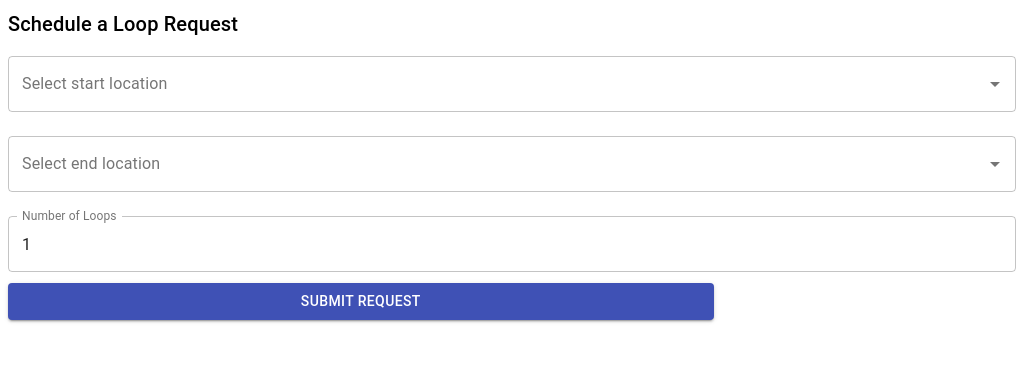
Test: Loop Request Form › should render error messages when invalid form is submitted
The image size is (1024, 386).
Click the button "Submit Request".
click(361, 301)  # box left=8, top=283, right=714, bottom=320
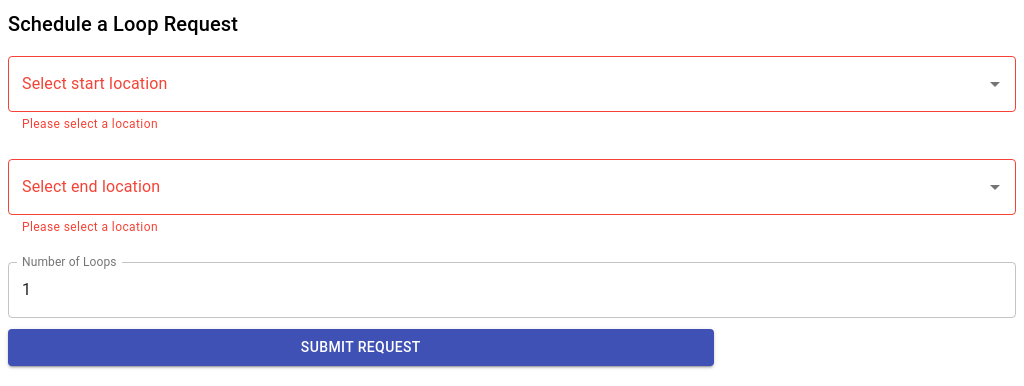
expect the text "Please select a location" below "Select start location" is shown: met, box left=22, top=117, right=158, bottom=131
